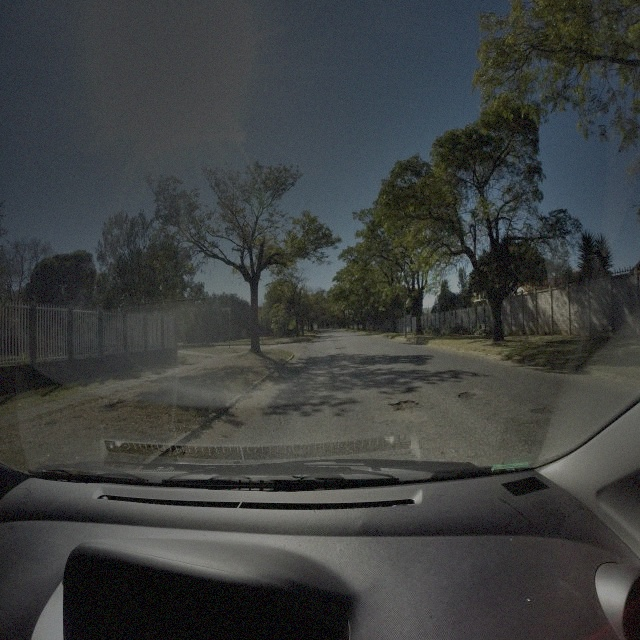pothole: (390, 396, 420, 414), (458, 388, 477, 402), (530, 404, 554, 415)
